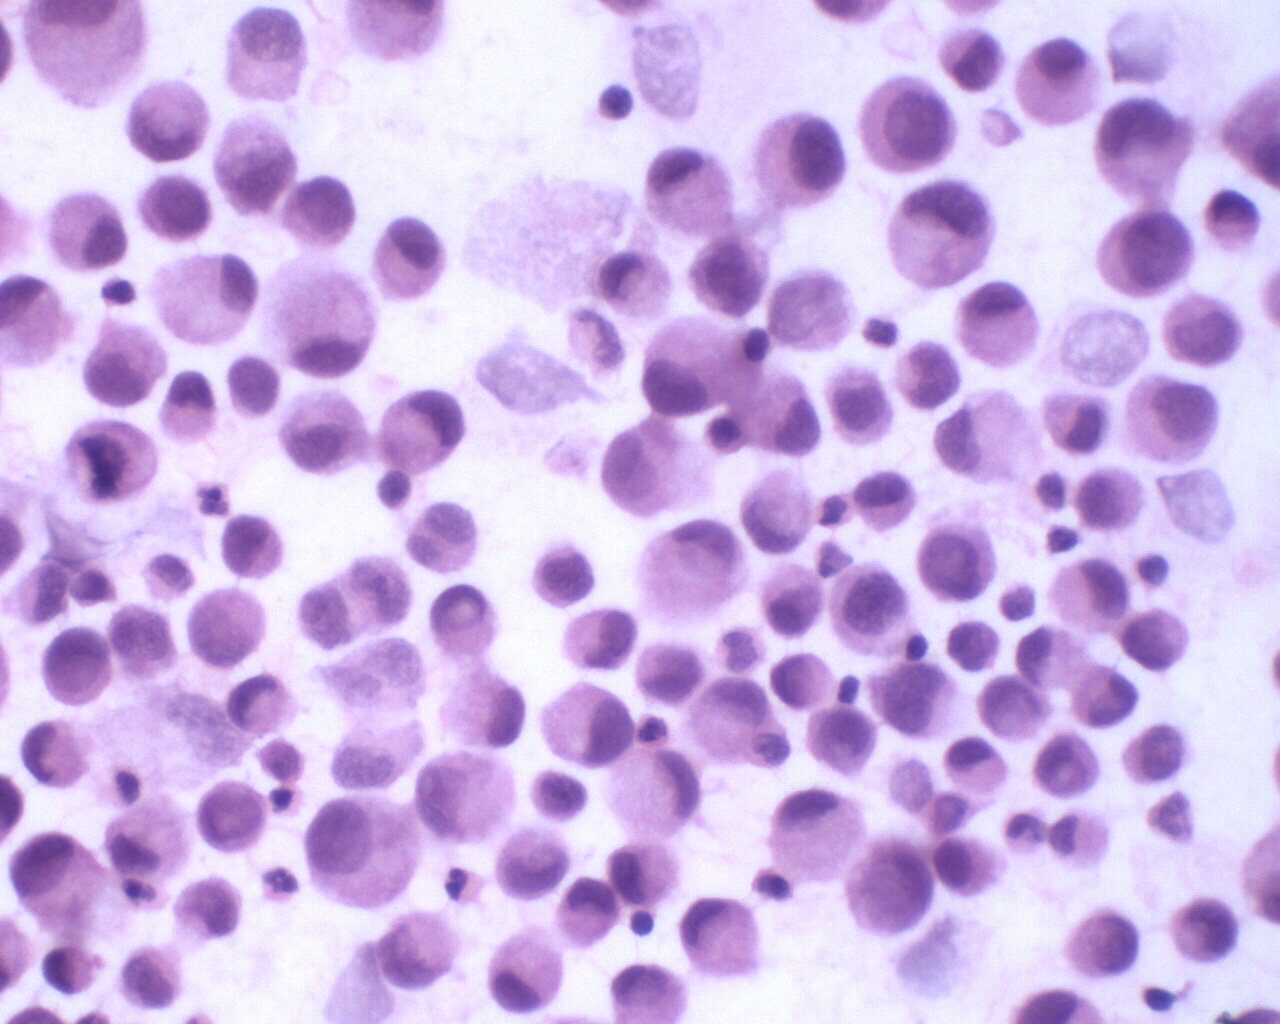ab: (853, 72, 958, 178), (844, 836, 941, 942), (1097, 210, 1197, 308), (1120, 370, 1223, 466), (833, 555, 921, 661), (684, 232, 779, 321), (80, 320, 172, 410), (916, 512, 1001, 608), (1156, 288, 1252, 371), (39, 619, 117, 712), (191, 771, 275, 856), (190, 586, 272, 672), (106, 599, 182, 686), (1060, 905, 1144, 981), (973, 676, 1060, 747), (275, 174, 355, 251), (801, 702, 880, 779), (140, 167, 215, 248), (891, 339, 967, 414), (1072, 463, 1149, 536), (1031, 723, 1101, 801), (528, 537, 600, 612), (1122, 605, 1195, 677), (1171, 897, 1243, 969), (167, 874, 243, 940), (216, 511, 294, 577), (1120, 717, 1190, 789), (118, 944, 188, 1011), (938, 23, 1005, 92), (529, 763, 595, 830), (222, 352, 282, 422)
histo: (260, 245, 383, 385), (627, 518, 752, 629), (147, 247, 266, 355), (599, 739, 707, 843), (764, 784, 864, 891), (643, 143, 739, 245), (954, 272, 1045, 370), (677, 892, 765, 986)
lymph: (597, 80, 639, 126)
meso: (751, 104, 845, 215), (1015, 32, 1106, 129)
neutro: (255, 858, 307, 910), (443, 860, 486, 909)
